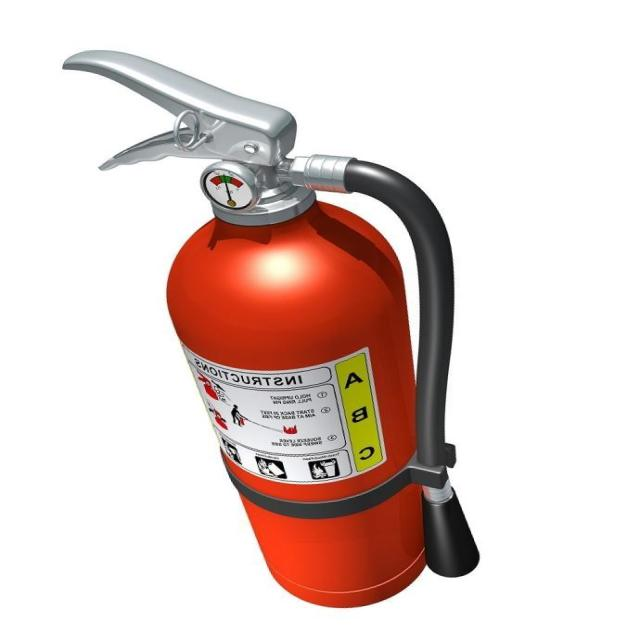fire_extinguisher: (54, 42, 493, 619)
